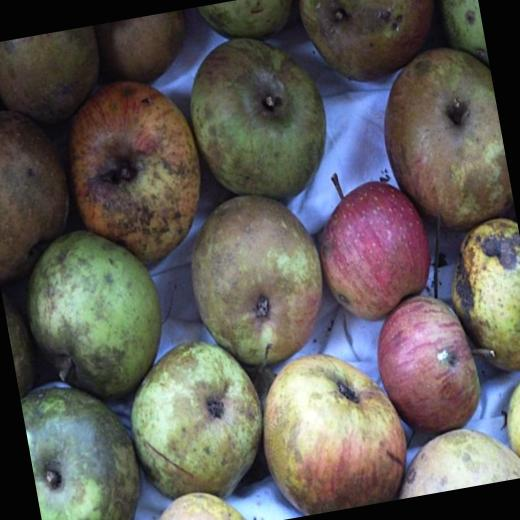Apple: (0, 0, 520, 520), (249, 341, 416, 520)
